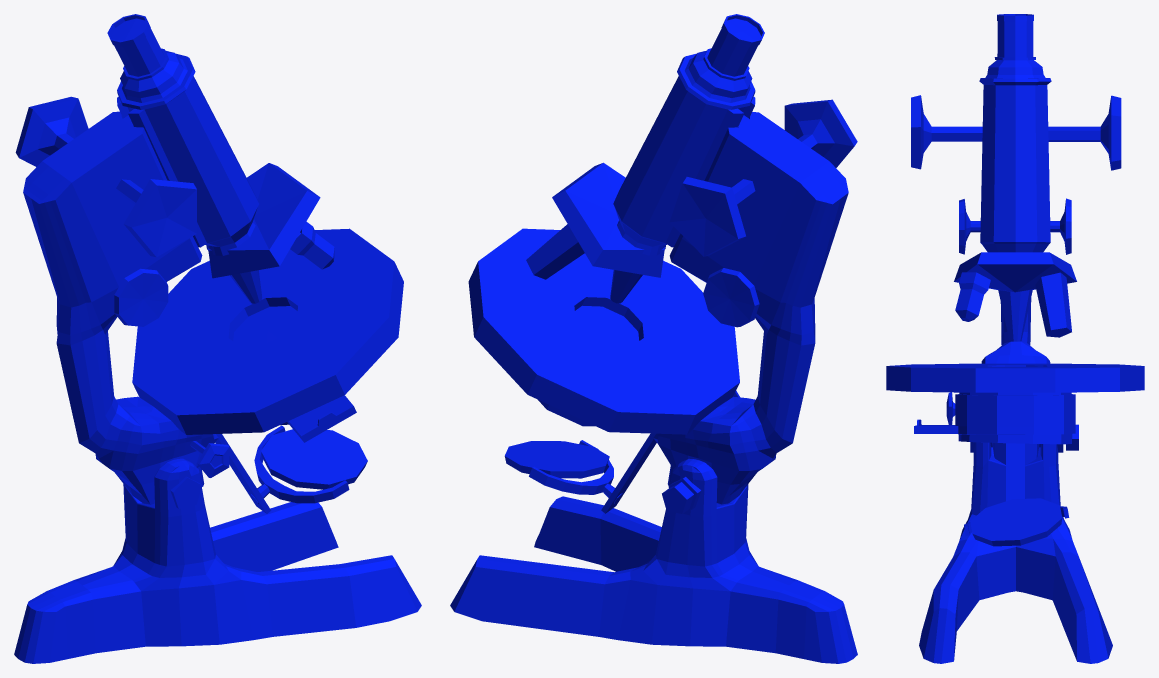
Rendered from MicroScope.fbx.
The picture shows the model from 3 angles, left to right: view 1: azimuth 30°, elevation 25°; view 2: azimuth 150°, elevation 25°; view 3: azimuth 270°, elevation 25°; orthographic projection. The views are drawn at different scales.
Visible parts, largest first — view 1: MicroScope; view 2: MicroScope; view 3: MicroScope.
Boxes of the visible parts, <box> form: MicroScope: <box>14,14,421,663</box>; MicroScope: <box>450,14,857,663</box>; MicroScope: <box>886,14,1144,663</box>.
Bounding box in the file's own units: 0.4209 × 0.6774 × 0.2898.
